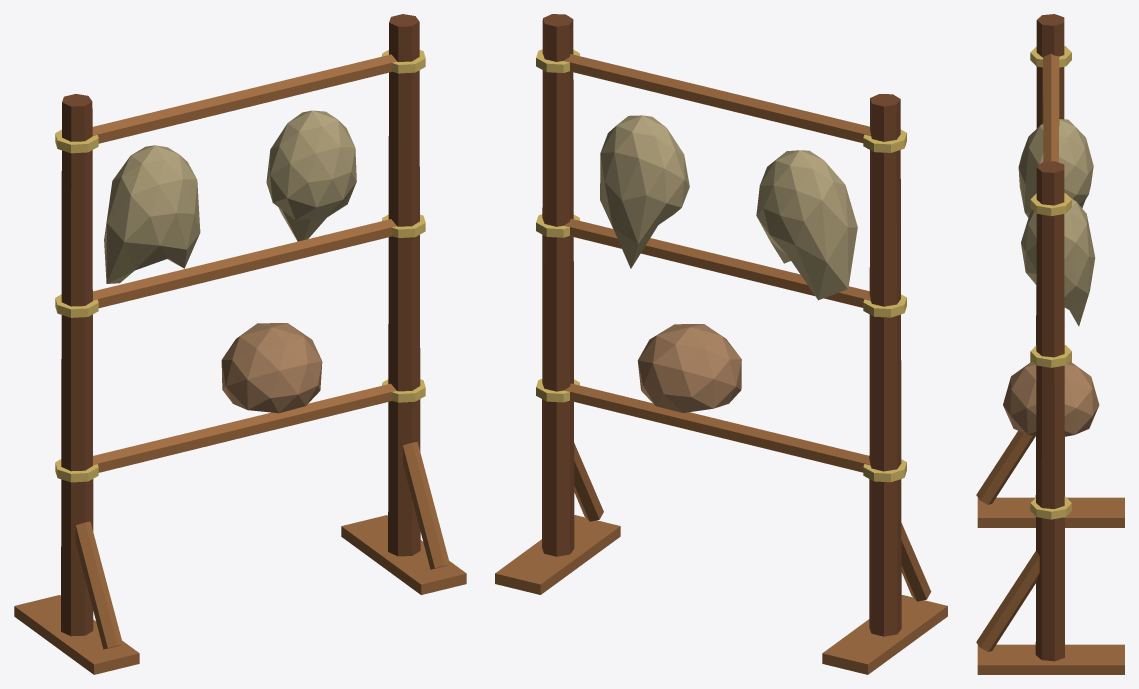
The model's file is rack_storage.glb.
3 views of the same model, side by side, from view 1: azimuth 30°, elevation 25°; view 2: azimuth 150°, elevation 25°; view 3: azimuth 270°, elevation 25° (orthographic). The views are drawn at different scales.
Visible parts, largest first — view 1: rack_storage.001; view 2: rack_storage.001; view 3: rack_storage.001.
Boxes of the visible parts, left/top/right/bottom form: rack_storage.001: left=14, top=14, right=466, bottom=674; rack_storage.001: left=495, top=14, right=947, bottom=674; rack_storage.001: left=976, top=14, right=1124, bottom=674.
Bounding box in the file's own units: 1.21 × 1.68 × 0.455.
